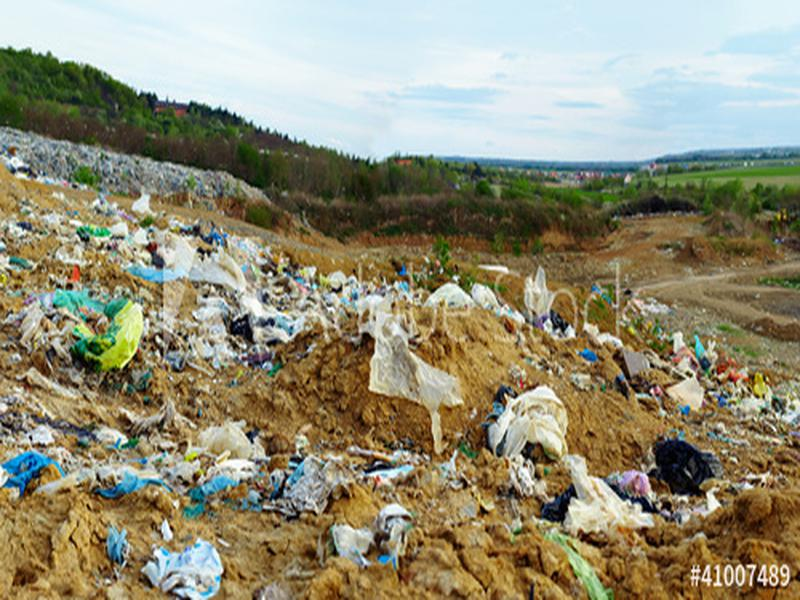plastic: (554, 453, 659, 540), (488, 383, 572, 461), (65, 297, 148, 374), (647, 433, 727, 495), (190, 411, 257, 464)
